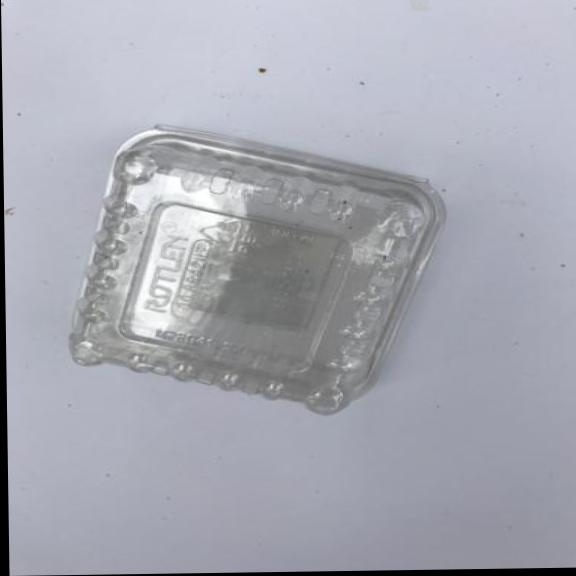Plastik: (54, 110, 458, 426)
